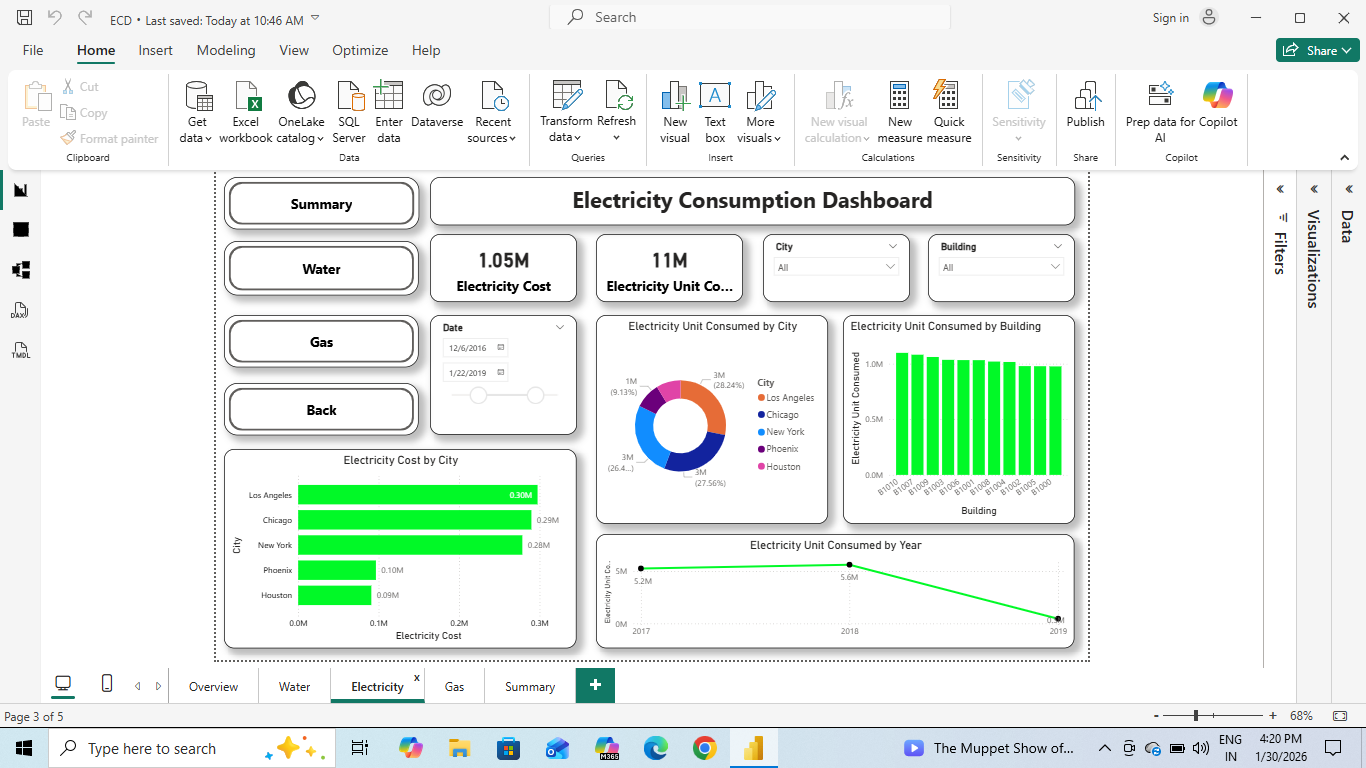

The dashboard page shown, as its layout file describes it:
{"tool":"powerbi","page":{"name":"Electricity","canvas":[1280,720],"ordinal":2},"visuals":[{"type":"clusteredBarChart","fields":{"Category":["Building Master.City"],"Y":["Energy Consumptions.Electricity Cost"]},"box":[12.4,410.2,517.5,293.2],"z":0},{"type":"card","fields":{"Values":["Energy Consumptions.Electricity Cost"]},"box":[313.8,93.6,216.1,100.5],"z":1000},{"type":"card","fields":{"Values":["Energy Consumptions.Electricity Unit Consumed"]},"box":[558.8,93.6,216.1,100.5],"z":2000},{"type":"donutChart","fields":{"Category":["Building Master.City"],"Y":["Energy Consumptions.Electricity Unit Consumed"]},"box":[558.8,213.3,341.3,306.9],"z":3000},{"type":"slicer","fields":{"Values":["Building Master.City"]},"box":[803.8,93.6,216.1,100.5],"z":4000},{"type":"slicer","fields":{"Values":["Building Master.Building"]},"box":[1046,93.6,216.1,100.5],"z":5000},{"type":"slicer","fields":{"Values":["Energy Consumptions.Date"]},"box":[313.8,213.3,216.1,176.2],"z":6000},{"type":"lineChart","fields":{"Category":["Energy Consumptions.Date.Variation.Date Hierarchy.Year"],"Y":["Energy Consumptions.Electricity Unit Consumed"]},"box":[559,535.4,703,167.6],"z":7000},{"type":"actionButton","title":"Water","box":[12.4,104.6,286.3,79.8],"z":8000},{"type":"actionButton","title":"Water","box":[12.4,213.3,286.3,77.1],"z":9000},{"type":"textbox","box":[314.2,10.5,947.8,70.7],"z":10000},{"type":"actionButton","title":"Water","box":[12.4,312.4,286.3,77.1],"z":11000},{"type":"columnChart","fields":{"Category":["Building Master.Building"],"Y":["Energy Consumptions.Electricity Unit Consumed"]},"box":[920.8,213.3,341.3,306.9],"z":12000},{"type":"actionButton","title":"Water","box":[11.8,10.5,286.7,77.2],"z":13000}]}

Visuals, with their boxes on the page's 1280x720 design canvas (x1, y1, x2, y2). These are canvas units, not pixel positions in the 1366x768 screenshot, which may show the page scaled, cropped or inside an application window:
clusteredBarChart - Building Master.City x Energy Consumptions.Electricity Cost: box=[12, 410, 530, 703]
card - Energy Consumptions.Electricity Cost: box=[314, 94, 530, 194]
card - Energy Consumptions.Electricity Unit Consumed: box=[559, 94, 775, 194]
donutChart - Building Master.City x Energy Consumptions.Electricity Unit Consumed: box=[559, 213, 900, 520]
slicer - Building Master.City: box=[804, 94, 1020, 194]
slicer - Building Master.Building: box=[1046, 94, 1262, 194]
slicer - Energy Consumptions.Date: box=[314, 213, 530, 390]
lineChart - Energy Consumptions.Date.Variation.Date Hierarchy.Year x Energy Consumptions.Electricity Unit Consumed: box=[559, 535, 1262, 703]
"Water" actionButton: box=[12, 105, 299, 184]
"Water" actionButton: box=[12, 213, 299, 290]
textbox: box=[314, 10, 1262, 81]
"Water" actionButton: box=[12, 312, 299, 390]
columnChart - Building Master.Building x Energy Consumptions.Electricity Unit Consumed: box=[921, 213, 1262, 520]
"Water" actionButton: box=[12, 10, 298, 88]
